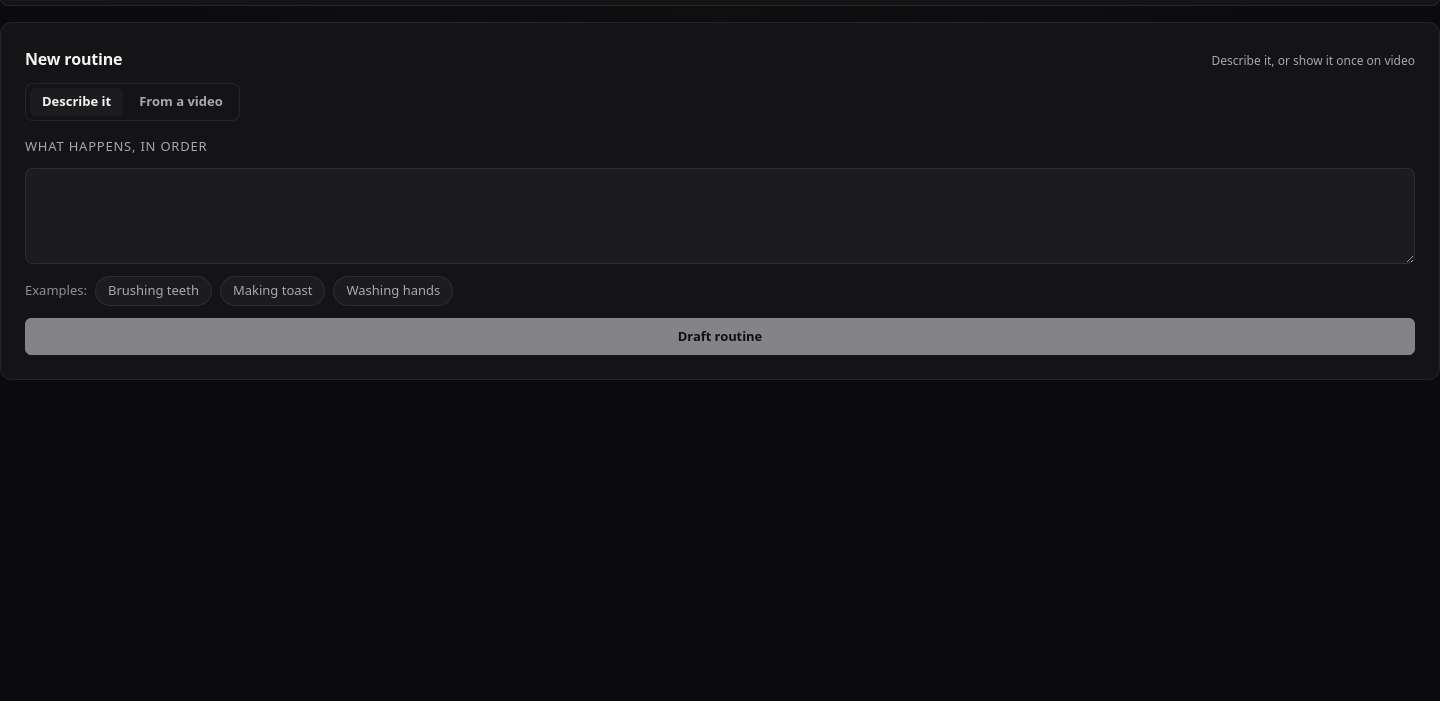
Scenario: RoutinesScreen › shows a saved routine in the list after the builder saves it
The image size is (1440, 701).
Type "Brush my teeth every morning" into the text box labelled "What happens, in order" at (720, 216), box [25, 168, 1415, 264]
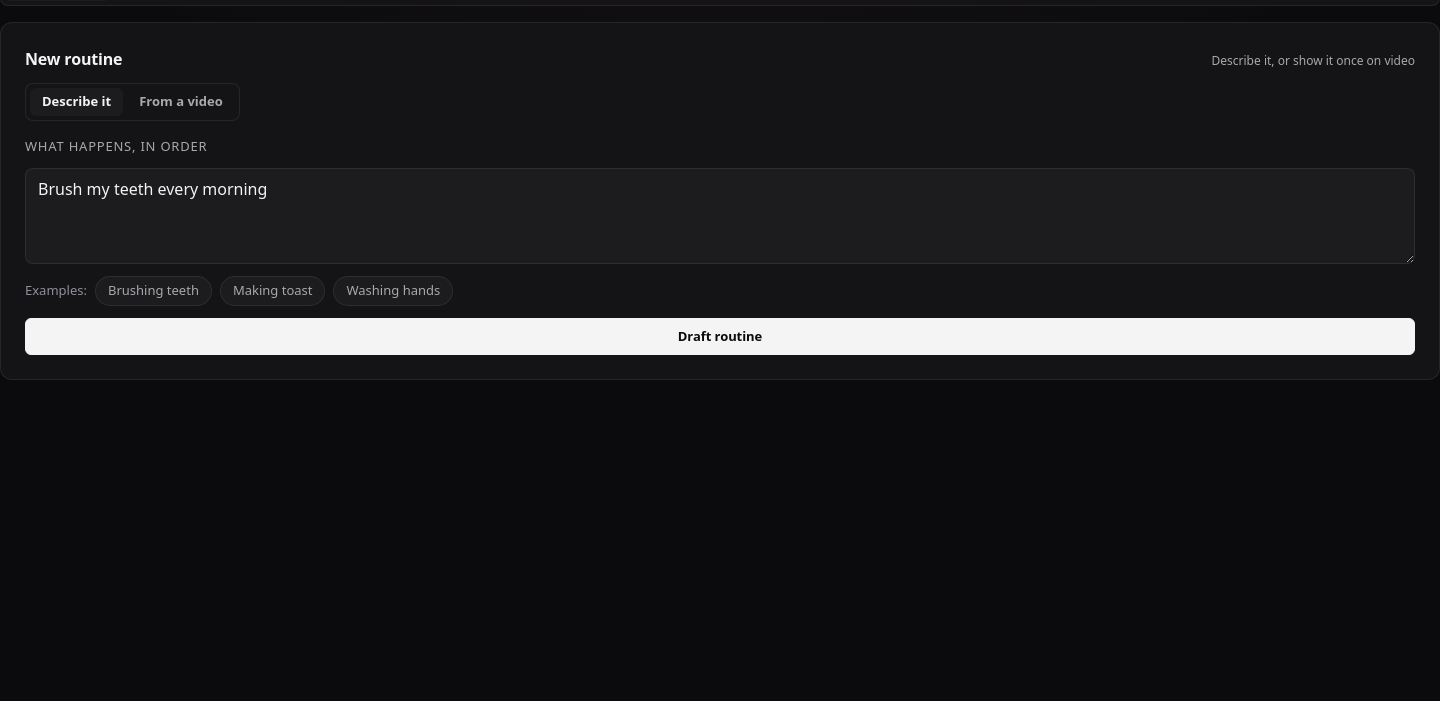
Click the button "Draft routine" at (720, 336), box [25, 318, 1415, 355]
(page scrolled)
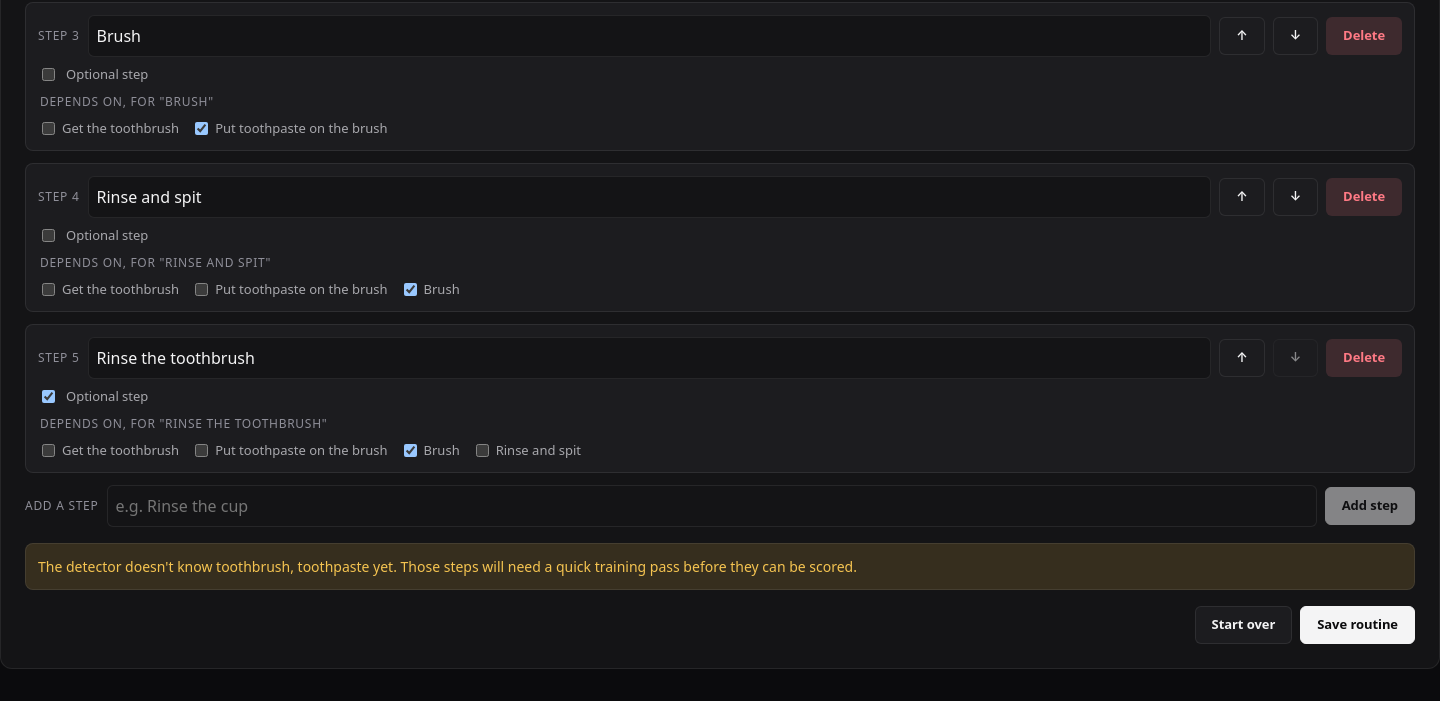
Click the button "Save routine" at (1358, 625), box [1300, 606, 1415, 644]
(page scrolled)
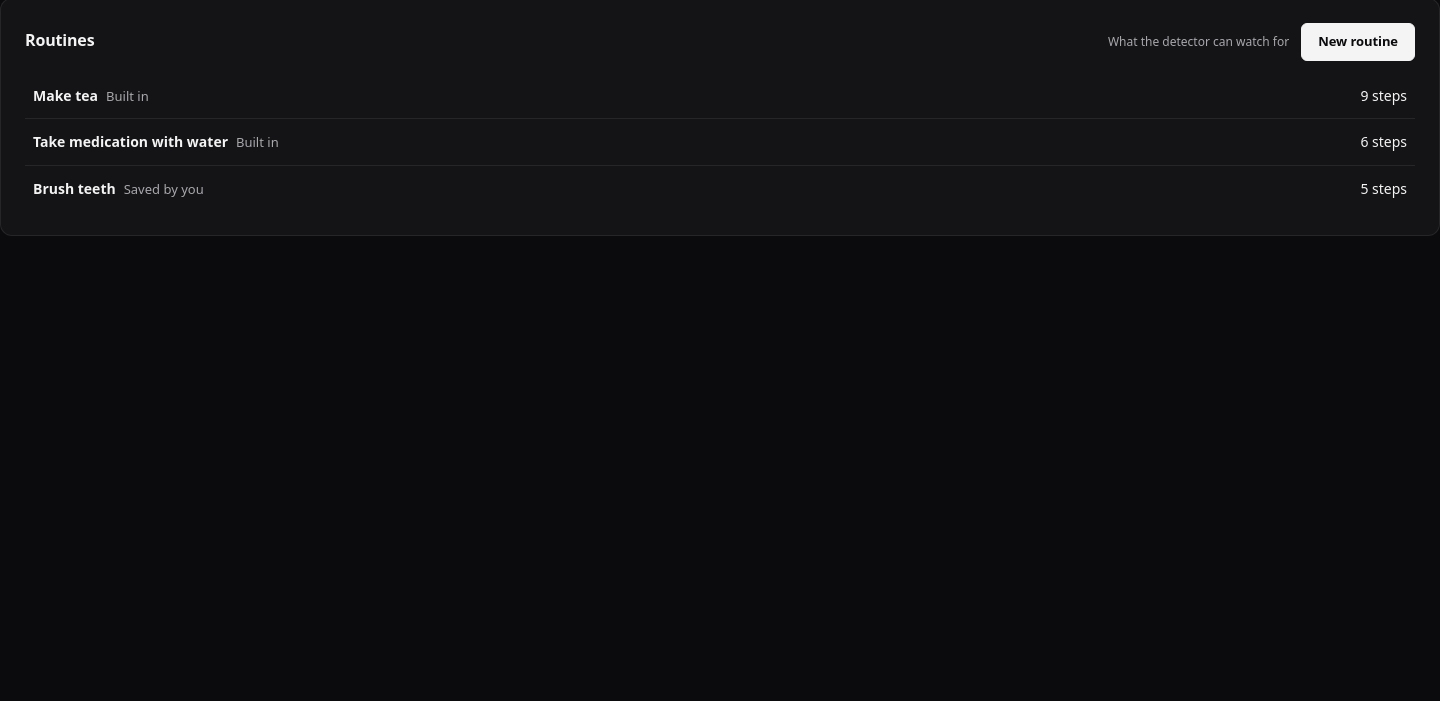
Expected: the text "Brush teeth" is shown, [33, 178, 116, 198]
Expected: the text "5 steps" is shown, [1360, 178, 1407, 199]
Expected: the text "Saved by you" is shown, [124, 180, 204, 199]
